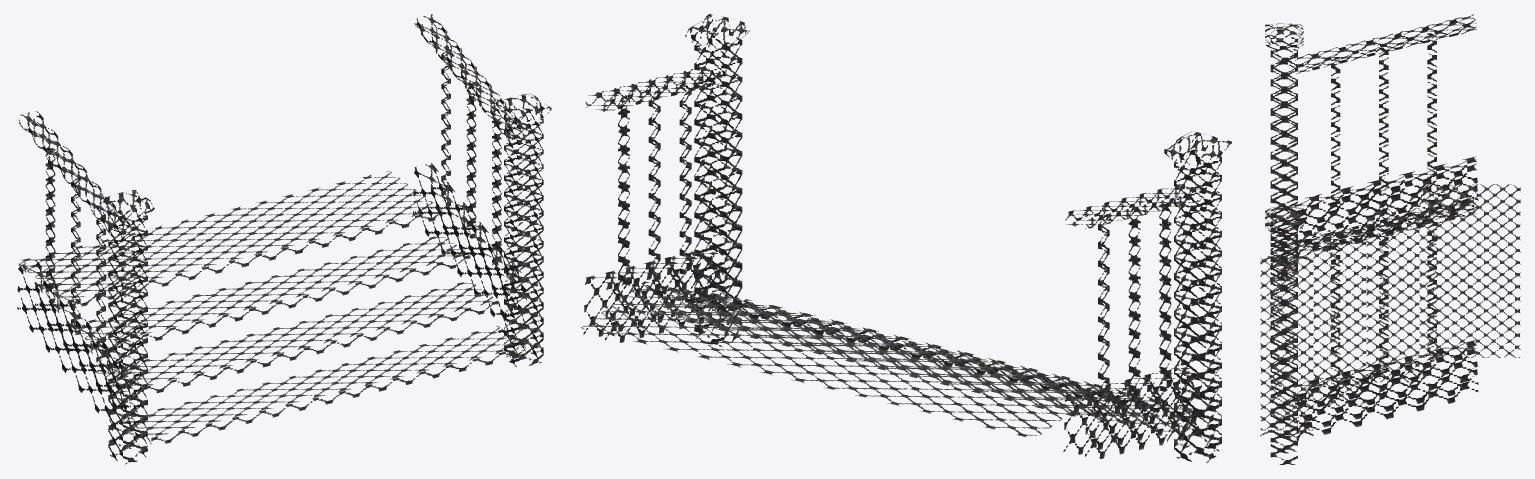
Rendered from STB0110006.FBX.
3 renders of one model, left to right at view 1: azimuth 30°, elevation 25°; view 2: azimuth 150°, elevation 25°; view 3: azimuth 270°, elevation 25°, orthographic. The views are drawn at different scales.
Parts seen in each view (by area): view 1: smSTB0110006; view 2: smSTB0110006; view 3: smSTB0110006.
Boxes of the visible parts, <box> form: smSTB0110006: <box>17,14,551,464</box>; smSTB0110006: <box>581,14,1231,463</box>; smSTB0110006: <box>1260,14,1520,464</box>.
Size of what is drawn, in the model's own units: 1.7 by 1.02 by 0.9342.
1 material, 1 textured.
